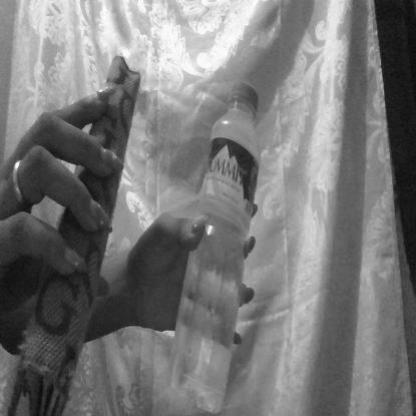Plastic Bottle: (171, 66, 279, 416)
